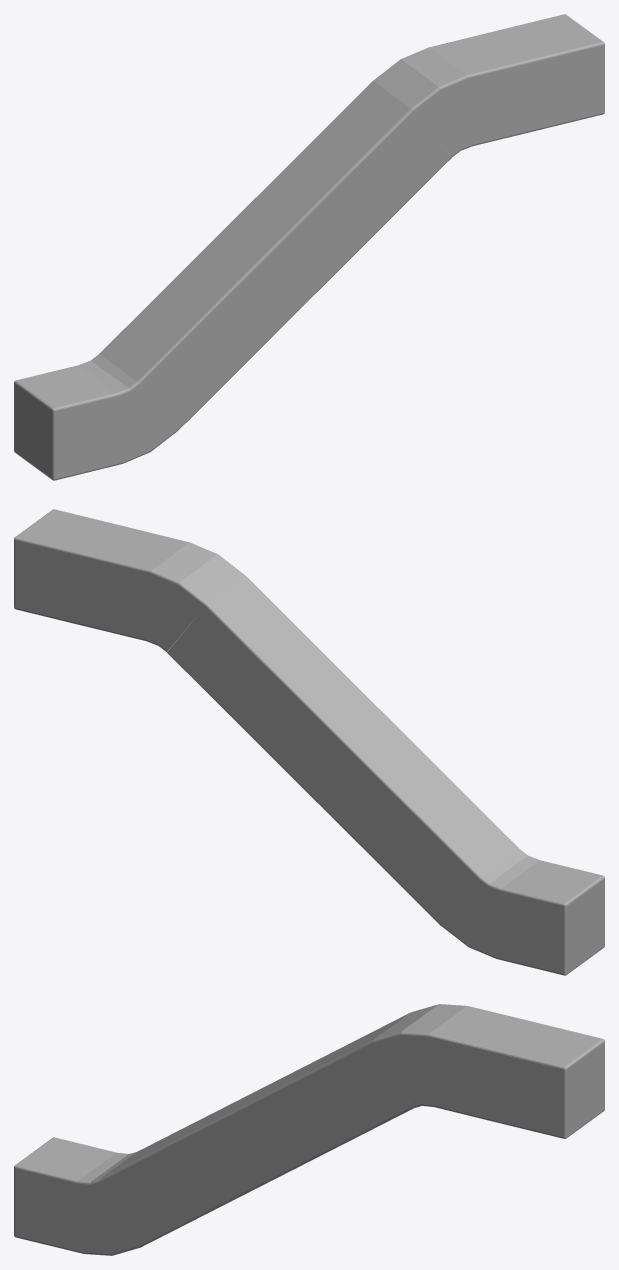
Rendered from AirVentShaft-Z.fbx.
3 views of the same model, one above another, from view 1: azimuth 30°, elevation 25°; view 2: azimuth 150°, elevation 25°; view 3: azimuth 330°, elevation 25° (orthographic).
Parts seen in each view (by area): view 1: Cube.004; view 2: Cube.004; view 3: Cube.004.
Boxes of the visible parts, x1,y1,x2,y2 form: Cube.004: (14, 14, 604, 480); Cube.004: (14, 509, 604, 975); Cube.004: (14, 1004, 604, 1255).
Size of the model in its own units: 1059 by 558 by 132.
Materials: 1 (1 with a texture image).
